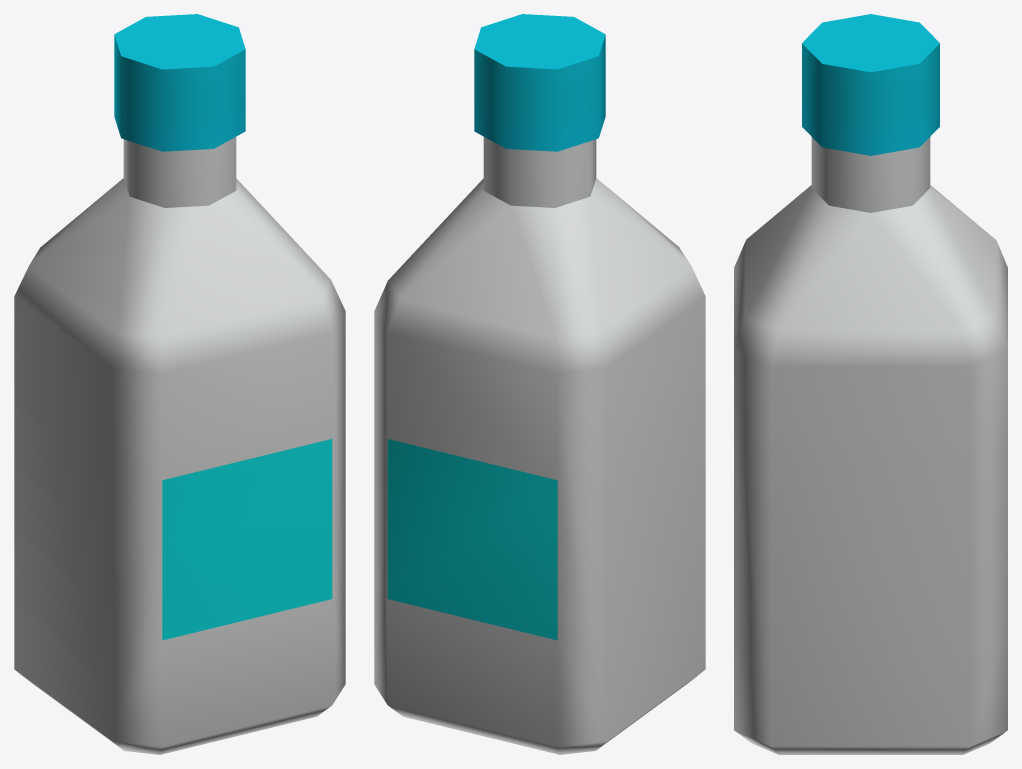
Rendered from Pfb_JLAB_Bottle.fbx.
3 renders of one model, left to right at view 1: azimuth 30°, elevation 25°; view 2: azimuth 150°, elevation 25°; view 3: azimuth 270°, elevation 25°, orthographic.
Visible parts, largest first — view 1: Color; view 2: Color; view 3: Color.
Boxes of the visible parts, x1,y1,x2,y2 form: Color: (14,14,345,754); Color: (374,14,705,754); Color: (734,14,1007,754).
Bounding box in the file's own units: 0.075 × 0.2 × 0.075.
Materials: 1 (1 with a texture image).
